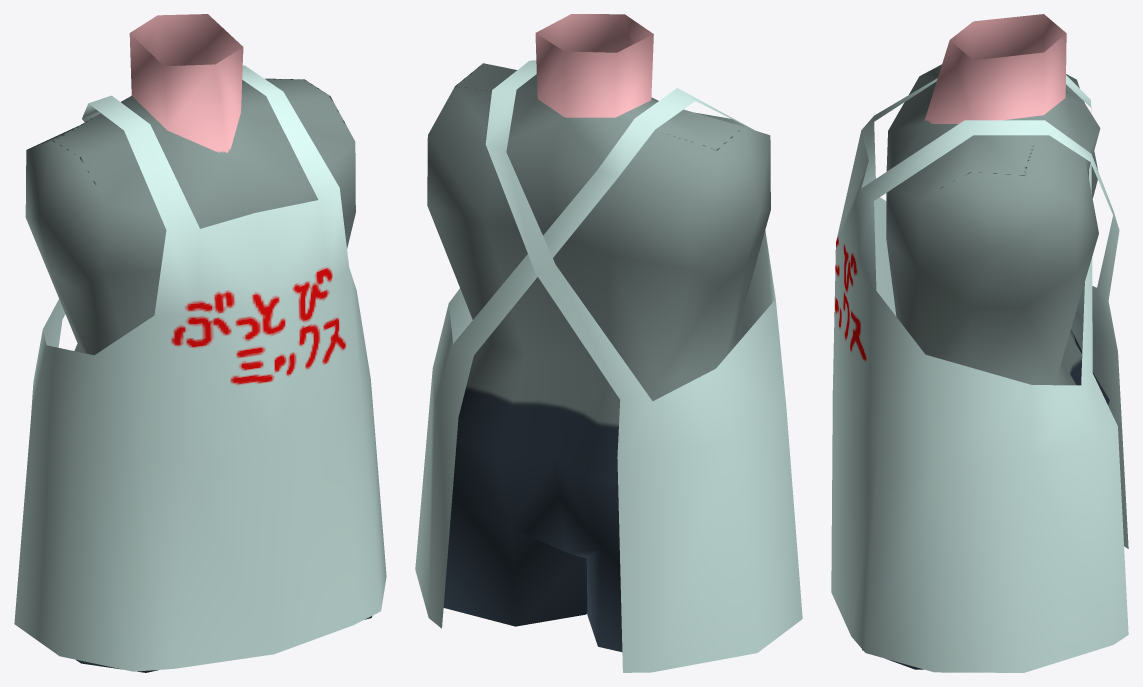
File: body.obj
3 renders of one model, left to right at view 1: azimuth 30°, elevation 25°; view 2: azimuth 150°, elevation 25°; view 3: azimuth 270°, elevation 25°, orthographic. The views are drawn at different scales.
Visible parts, largest first — view 1: body.002; view 2: body.002; view 3: body.002.
Part boxes in pixels (left/top/right/bottom): body.002: left=14, top=14, right=386, bottom=672; body.002: left=415, top=14, right=802, bottom=672; body.002: left=831, top=14, right=1128, bottom=672.
Size of the model in its own units: 0.5224 by 0.8454 by 0.4052.
Materials: 1 (1 with a texture image).
